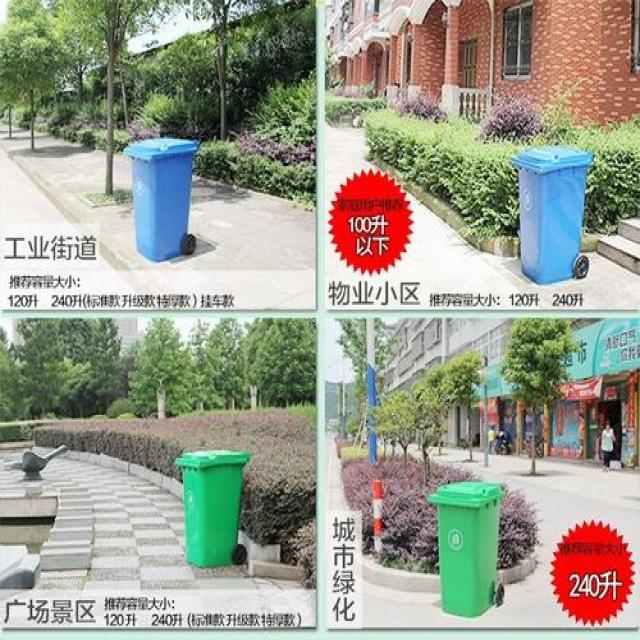garbage_bin: (510, 144, 590, 286), (428, 479, 503, 614), (121, 134, 196, 259), (173, 447, 248, 566)
